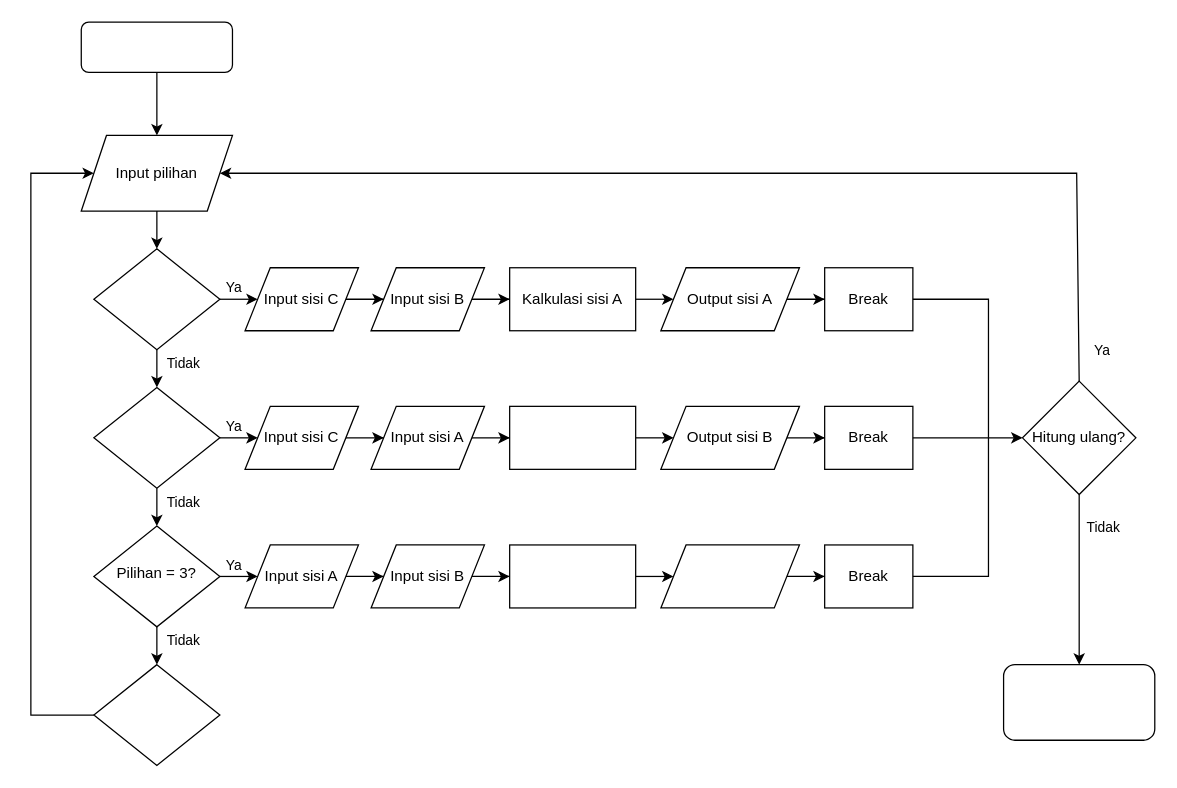
Image size: 1177x788. Some labels were removed from this diagram. The shapes that lost their labels are listed below. From the top down, each one's centre as x and y in pixels, then its label:
(x=156, y=46): Mulai
(x=156, y=299): Pilihan = 1?
(x=156, y=437): Pilihan = 2?
(x=572, y=437): Kalkulasi sisi B
(x=572, y=576): Kalkulasi sisi C
(x=729, y=576): Output sisi C
(x=156, y=714): Default
(x=1078, y=701): Selesai
